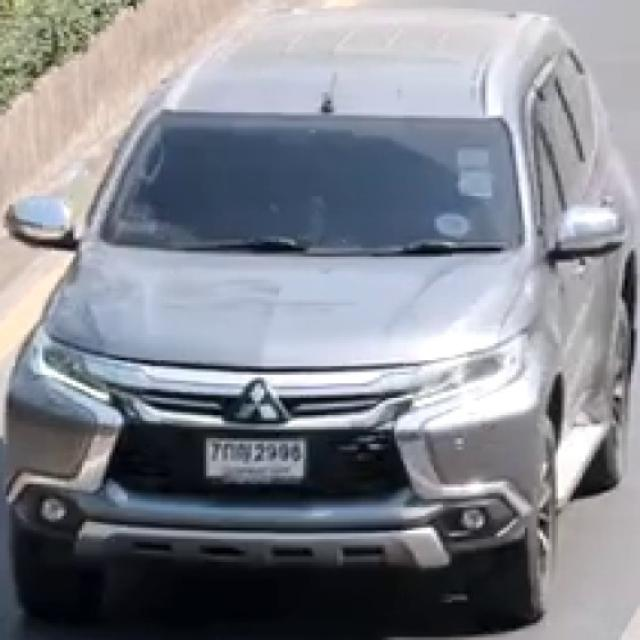plate: (205, 435, 307, 479)
